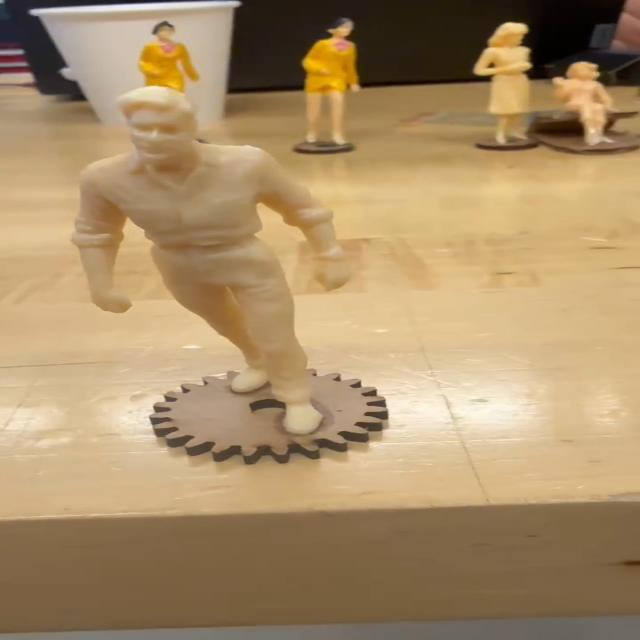Unauthorized: (59, 88, 371, 442)
